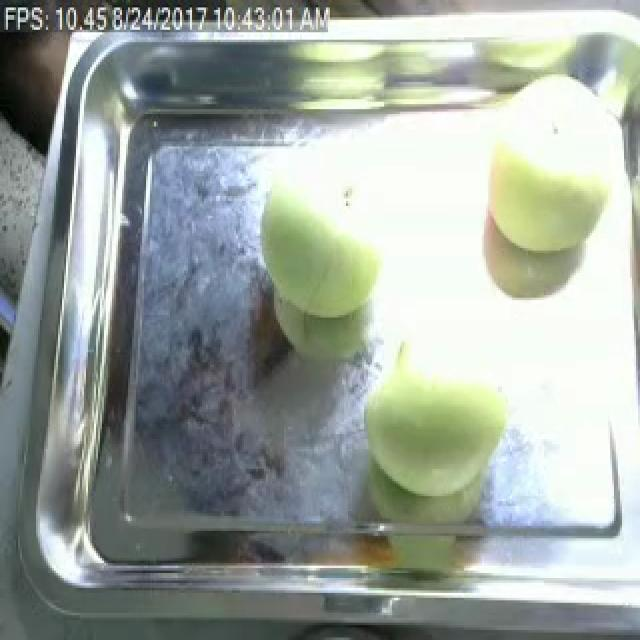50-_ripeness: (481, 71, 624, 270), (255, 153, 403, 319), (366, 331, 507, 499)
